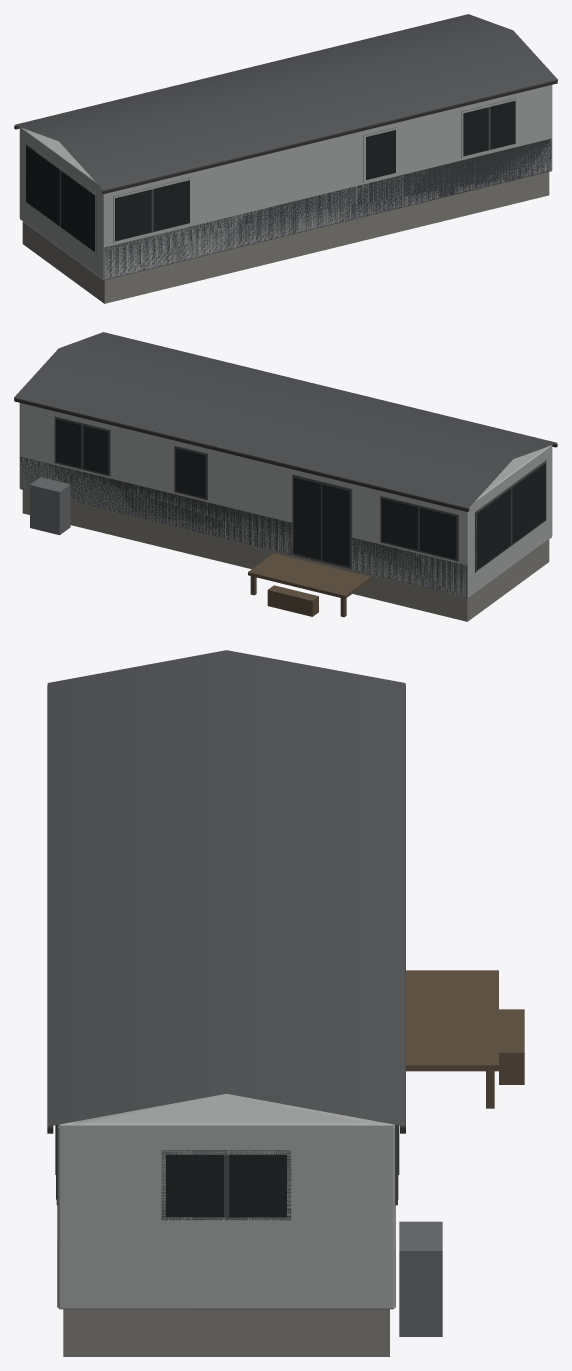
Rendered from SM_Prop_static_caravan_1.glb.
3 renders of one model, top to bottom at view 1: azimuth 30°, elevation 25°; view 2: azimuth 150°, elevation 25°; view 3: azimuth 270°, elevation 25°, orthographic. The views are drawn at different scales.
Visible parts, largest first — view 1: SM_Prop_static_caravan_1; view 2: SM_Prop_static_caravan_1; view 3: SM_Prop_static_caravan_1.
Part boxes in pixels (left/top/right/bottom): SM_Prop_static_caravan_1: left=14, top=14, right=557, bottom=303; SM_Prop_static_caravan_1: left=14, top=332, right=557, bottom=621; SM_Prop_static_caravan_1: left=47, top=650, right=524, bottom=1356.
Size of the model in its own units: 12.14 by 3.42 by 5.53.
